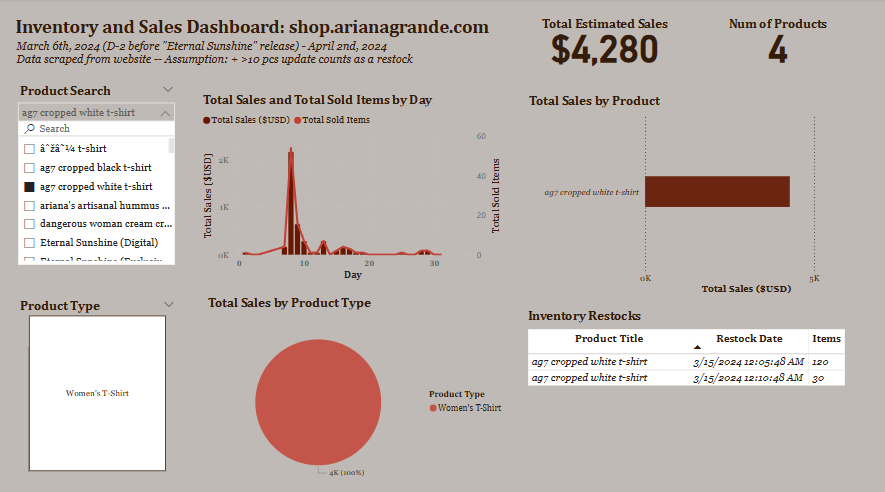

This screenshot's page, from the dashboard's own definition file:
{"tool":"powerbi","page":{"name":"Dashboard","canvas":[1280,720],"ordinal":0},"visuals":[{"type":"slicer","title":"Album ","fields":{"Values":["ariana_grande_inventory01_13.album_era"]},"box":[22.7,191.3,244.5,160.9],"z":0},{"type":"textbox","box":[23.4,20,705.7,44.3],"z":1000},{"type":"textbox","box":[24,54,706,50],"z":2000},{"type":"lineClusteredColumnComboChart","title":"Total Sales and Total Sold Items by Day","fields":{"Y":["Sum(ariana_grande_inventory01_13.estimated_total_sales)"],"Y2":["Sum(ariana_grande_inventory01_13.sold_items)"],"Category":["ariana_grande_inventory01_13.data_pulled_at.Variation.Date Hierarchy.Day"]},"box":[292.9,133.7,442,278],"z":3000},{"type":"barChart","title":"Total Sales by Product","fields":{"Category":["ariana_grande_inventory01_13.product_title"],"Y":["Sum(ariana_grande_inventory01_13.estimated_total_sales)"]},"box":[762,136,478,296],"z":4000},{"type":"slicer","fields":{"Values":["ariana_grande_inventory01_13.product_title"]},"box":[21.4,116.9,245.7,75.7],"z":5000},{"type":"slicer","title":"Product Type","fields":{"Values":["ariana_grande_inventory01_13.product_type"]},"box":[21.8,426.7,246.9,262],"z":6000},{"type":"pieChart","title":"Total Sales by Product Type","fields":{"Category":["ariana_grande_inventory01_13.product_type"],"Y":["Sum(ariana_grande_inventory01_13.estimated_total_sales)"]},"box":[298.9,425.7,442,290],"z":7000},{"type":"card","title":"Total Estimated Sales","fields":{"Values":["Sum(ariana_grande_inventory01_13.estimated_total_sales)"]},"box":[751.4,10,250,107.1],"z":8000},{"type":"card","title":"Num of Products","fields":{"Values":["Count(ariana_grande_inventory01_13.variant_sku)"]},"box":[1001.4,10,250,107.1],"z":9000},{"type":"tableEx","title":"Inventory Restocks","fields":{"Values":["ariana_grande_inventory01_13.product_title","ariana_grande_inventory01_13.Data Pulled at","ariana_grande_inventory01_13.quantity_diff"]},"box":[760.9,445.1,478.7,231.8],"z":10000},{"type":"slicer","fields":{"Values":["ariana_grande_inventory01_13.is_limited_edition"]},"box":[23.6,352.2,243.6,68.2],"z":11000}]}

Visuals, with their boxes in screenshot pixels (x1, y1, x2, y2), scaled from the page's 1280x720 canvas onto the 885x492 screenshot:
"Album " slicer: left=16, top=131, right=185, bottom=241
textbox: left=16, top=14, right=504, bottom=44
textbox: left=17, top=37, right=505, bottom=71
"Total Sales and Total Sold Items by Day" lineClusteredColumnComboChart: left=203, top=91, right=508, bottom=281
"Total Sales by Product" barChart: left=527, top=93, right=857, bottom=295
slicer - ariana_grande_inventory01_13.product_title: left=15, top=80, right=185, bottom=132
"Product Type" slicer: left=15, top=292, right=186, bottom=471
"Total Sales by Product Type" pieChart: left=207, top=291, right=512, bottom=489
"Total Estimated Sales" card: left=520, top=7, right=692, bottom=80
"Num of Products" card: left=692, top=7, right=865, bottom=80
"Inventory Restocks" tableEx: left=526, top=304, right=857, bottom=463
slicer - ariana_grande_inventory01_13.is_limited_edition: left=16, top=241, right=185, bottom=287
